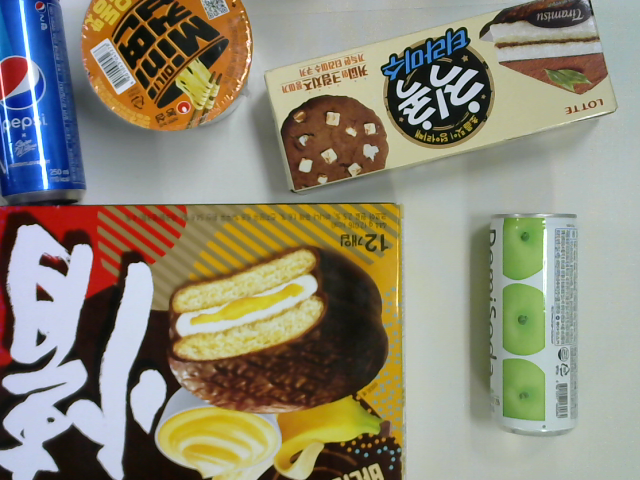Chicchok_Tiramisu: (264, 1, 620, 193)
Choco_Pie_Banana: (1, 201, 406, 480)
Demisoda_Apple_Can_250ml: (486, 211, 583, 435)
Pepsi_Cola_Can_250ml: (1, 1, 89, 203)
Udongmini: (78, 1, 254, 133)
